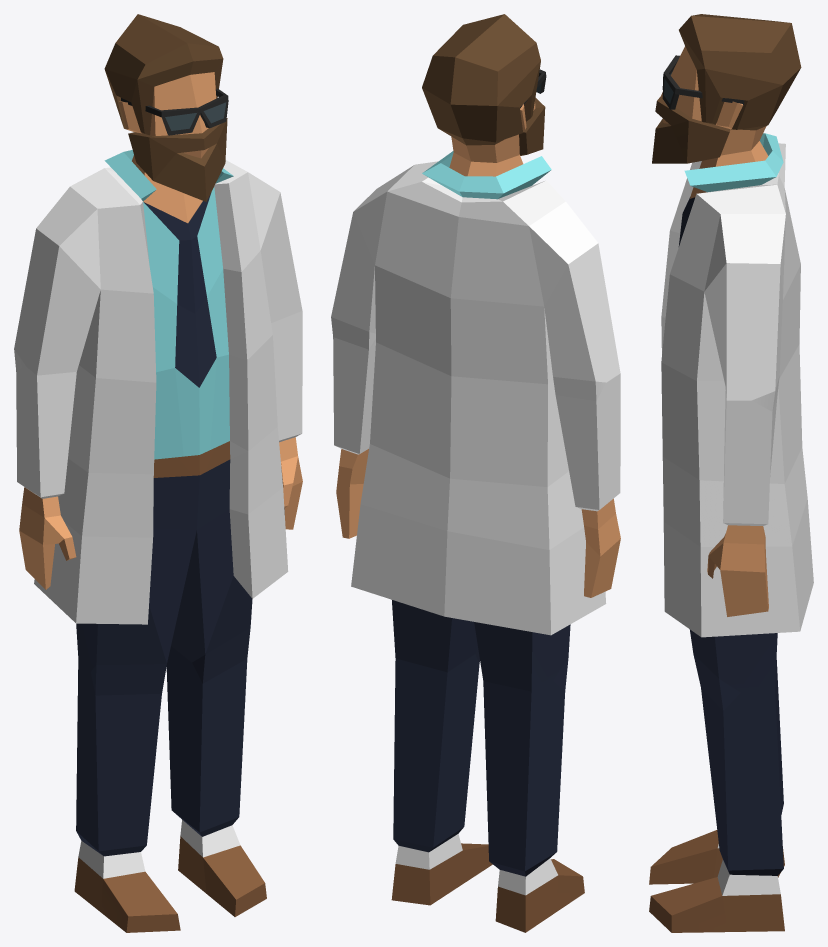
Rendered from people_man-doctor.fbx.
3 renders of one model, left to right at view 1: azimuth 30°, elevation 25°; view 2: azimuth 150°, elevation 25°; view 3: azimuth 270°, elevation 25°, orthographic.
Parts seen in each view (by area): view 1: people_man_doctor; view 2: people_man_doctor; view 3: people_man_doctor.
Boxes of the visible parts, x1,y1,x2,y2 form: people_man_doctor: (14, 14, 302, 932); people_man_doctor: (331, 14, 620, 932); people_man_doctor: (649, 14, 813, 932).
Size of the model in its own units: 64.19 by 200 by 33.86.
